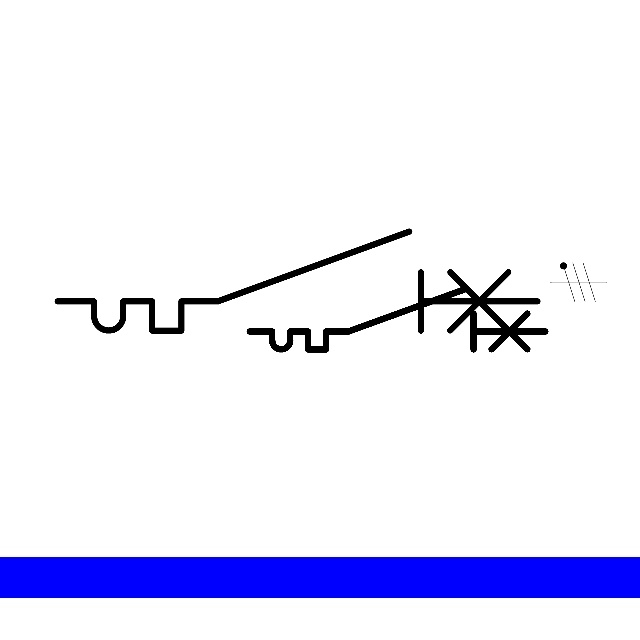interruptor_termomagnetico: (45, 219, 550, 343), (242, 281, 553, 357)
